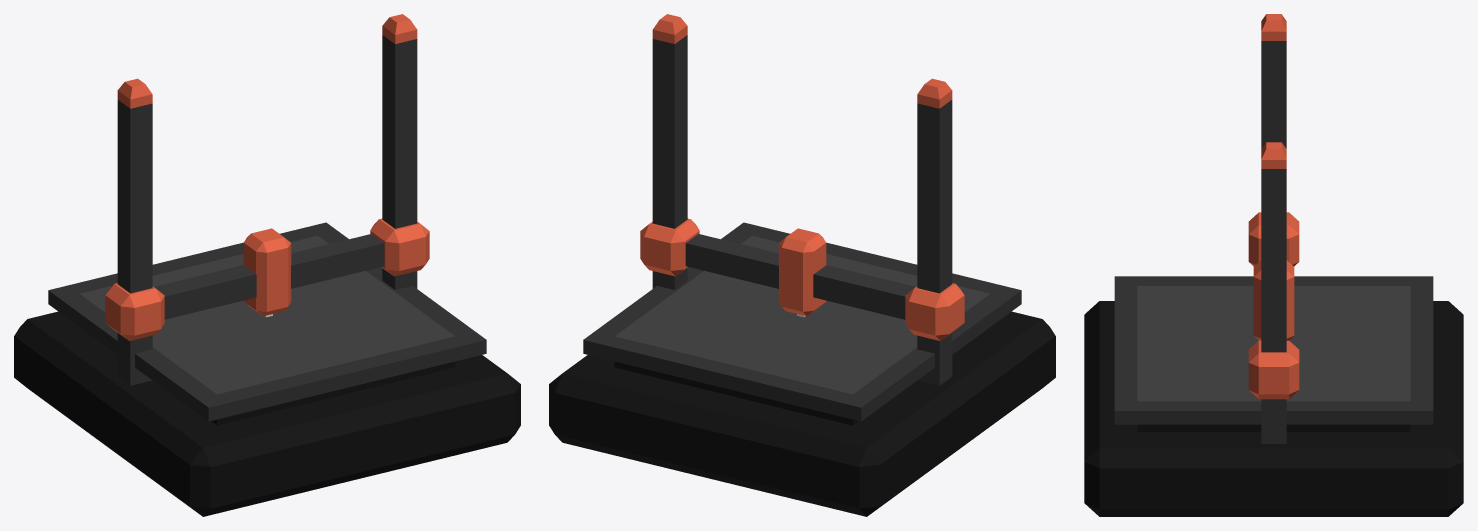
File: 3D_Printer_TD_4.fbx
3 renders of one model, left to right at view 1: azimuth 30°, elevation 25°; view 2: azimuth 150°, elevation 25°; view 3: azimuth 270°, elevation 25°, orthographic.
Parts seen in each view (by area): view 1: Cube.019, Cube.022, Cube.023; view 2: Cube.019, Cube.022, Cube.023; view 3: Cube.019, Cube.022, Cube.023.
Part boxes in pixels (box(x1,y1,x2,y2)): Cube.019: box(14, 14, 520, 516); Cube.022: box(105, 218, 429, 340); Cube.023: box(243, 228, 291, 317); Cube.019: box(549, 14, 1055, 516); Cube.022: box(640, 218, 964, 340); Cube.023: box(778, 228, 826, 317); Cube.019: box(1084, 14, 1463, 516); Cube.022: box(1248, 212, 1299, 399); Cube.023: box(1253, 260, 1294, 340).
Bounding box in the file's own units: 750 × 790 × 750.
